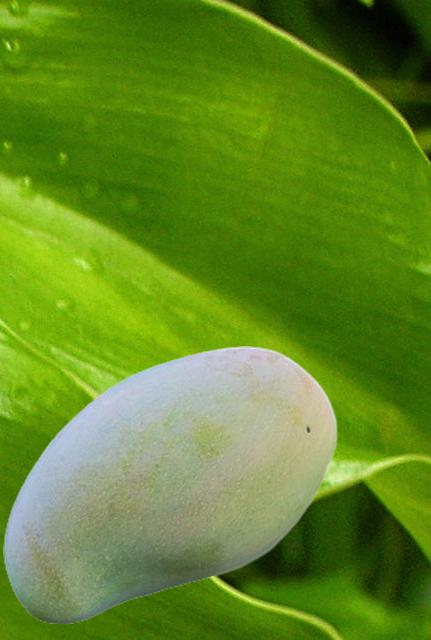green_mango: (3, 346, 337, 622)
